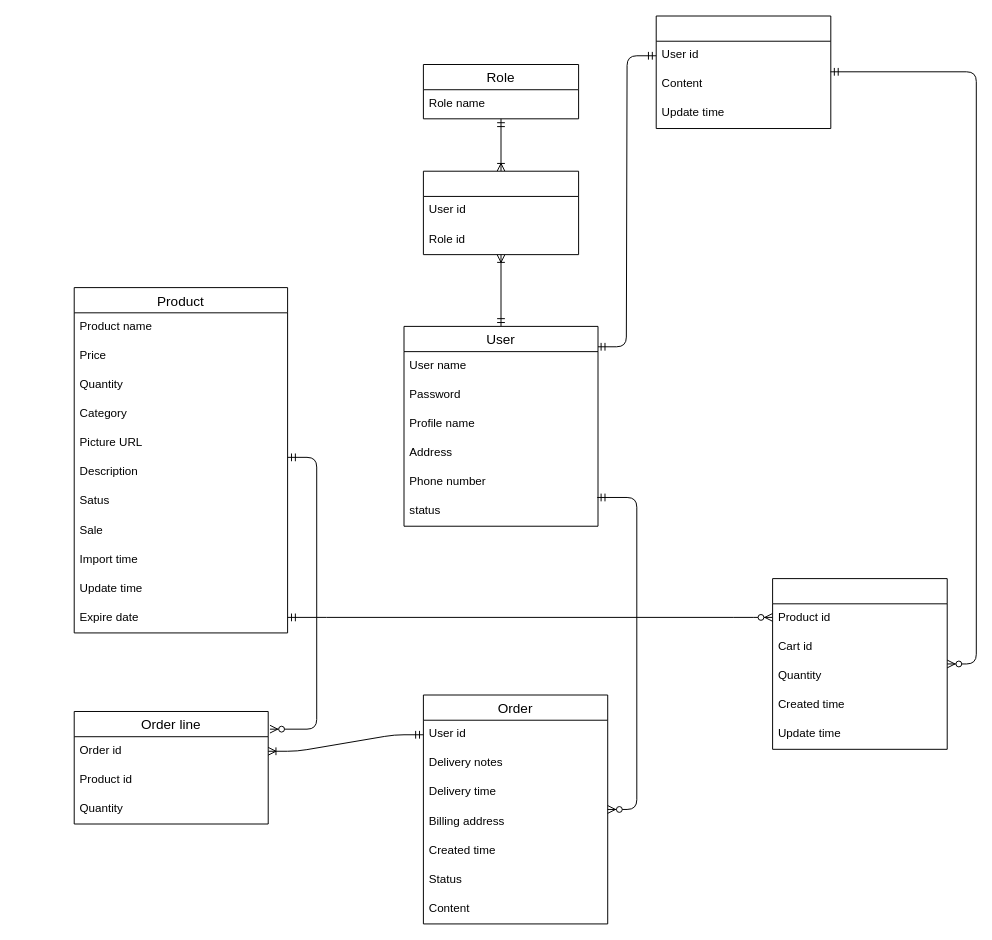
This 992x940 diagram has some shape labels left out. Here are the shapes that lost their labels. From the top down, the box of each, then its label:
(655, 15, 831, 129): Cart
(422, 170, 579, 255): UserRole
(772, 578, 947, 749): Cart Item
